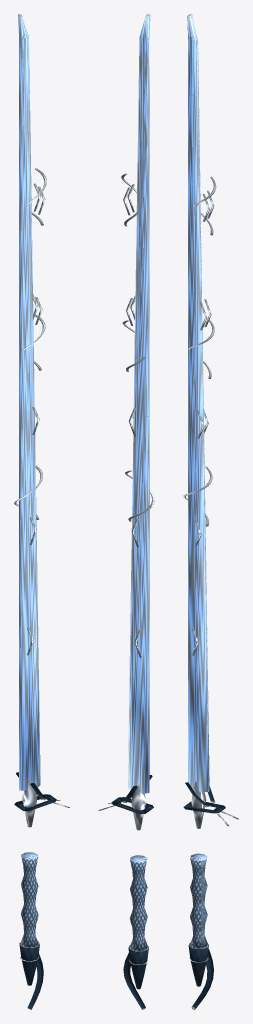
The model's file is sword_12_stormspirit_dragon.glb.
3 renders of one model, left to right at view 1: azimuth 30°, elevation 25°; view 2: azimuth 150°, elevation 25°; view 3: azimuth 330°, elevation 25°, orthographic.
Visible parts, largest first — view 1: Blade_DragonKatana, Grip_DragonSilk, Pommel_StormPearl, Scales_DragonChevrons, Wisps_StormCoils, Head_DragonGuard, Core_DragonEye, Tail_DragonCoil; view 2: Blade_DragonKatana, Grip_DragonSilk, Pommel_StormPearl, Scales_DragonChevrons, Head_DragonGuard, Core_DragonEye, Wisps_StormCoils, Tail_DragonCoil; view 3: Blade_DragonKatana, Grip_DragonSilk, Scales_DragonChevrons, Pommel_StormPearl, Wisps_StormCoils, Head_DragonGuard, Core_DragonEye, Tail_DragonCoil.
Part boxes in pixels (bbox=[...]): Blade_DragonKatana: bbox=[18, 14, 40, 790]; Grip_DragonSilk: bbox=[20, 852, 38, 947]; Pommel_StormPearl: bbox=[19, 941, 39, 985]; Scales_DragonChevrons: bbox=[27, 183, 45, 655]; Wisps_StormCoils: bbox=[14, 168, 46, 519]; Head_DragonGuard: bbox=[14, 772, 69, 811]; Core_DragonEye: bbox=[22, 780, 36, 827]; Tail_DragonCoil: bbox=[27, 954, 43, 1009]; Blade_DragonKatana: bbox=[127, 14, 150, 793]; Grip_DragonSilk: bbox=[129, 855, 147, 950]; Pommel_StormPearl: bbox=[128, 945, 148, 989]; Scales_DragonChevrons: bbox=[123, 184, 141, 657]; Head_DragonGuard: bbox=[98, 775, 153, 814]; Core_DragonEye: bbox=[131, 783, 146, 830]; Wisps_StormCoils: bbox=[121, 173, 154, 521]; Tail_DragonCoil: bbox=[123, 953, 145, 1009]; Blade_DragonKatana: bbox=[187, 14, 209, 791]; Grip_DragonSilk: bbox=[190, 853, 207, 948]; Scales_DragonChevrons: bbox=[191, 190, 214, 655]; Pommel_StormPearl: bbox=[188, 942, 208, 986]; Wisps_StormCoils: bbox=[183, 176, 216, 526]; Head_DragonGuard: bbox=[183, 782, 238, 826]; Core_DragonEye: bbox=[191, 781, 206, 828]; Tail_DragonCoil: bbox=[191, 949, 213, 1009].
Size of the model in its own units: 0.1384 by 2.6 by 0.0798.
1 material, 1 textured.
